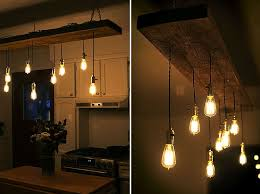bulb: (151, 134, 190, 174), (200, 92, 220, 133), (184, 109, 207, 144), (197, 154, 221, 182), (237, 146, 253, 173), (217, 124, 234, 149), (23, 60, 40, 82), (85, 77, 102, 98), (27, 82, 45, 101), (230, 116, 242, 141), (48, 73, 63, 89), (2, 67, 16, 83), (79, 55, 92, 72), (58, 61, 70, 78)
